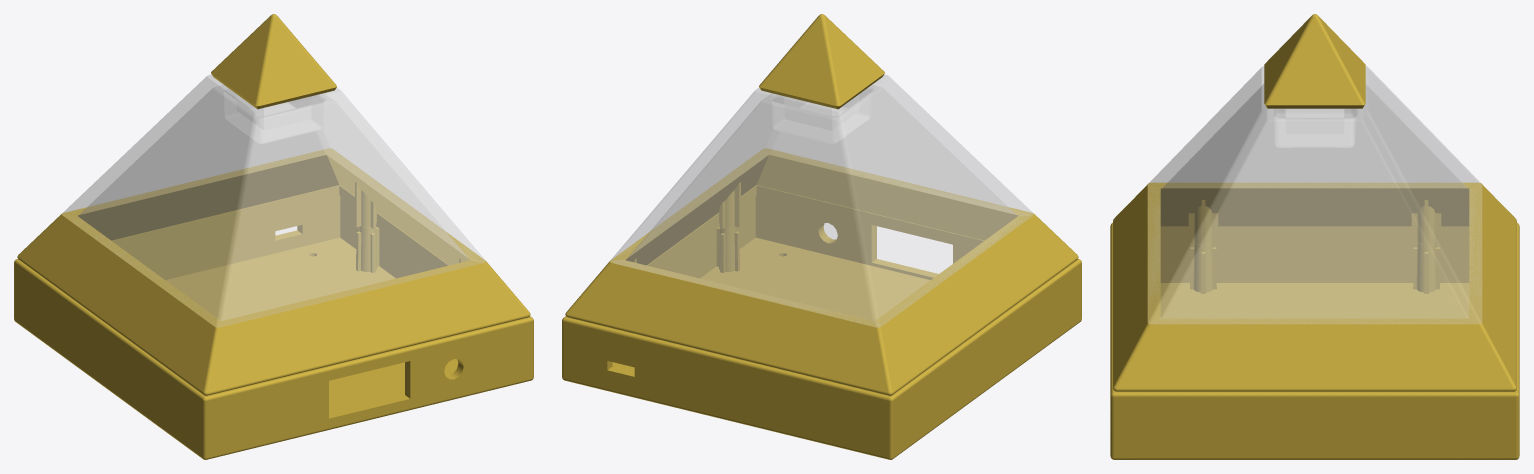
File: Violin-v1.glb
3 views of the same model, side by side, from view 1: azimuth 30°, elevation 25°; view 2: azimuth 150°, elevation 25°; view 3: azimuth 270°, elevation 25° (orthographic). The views are drawn at different scales.
Visible parts, largest first — view 1: Low-frequency magnetic_wire-Up-Cover.004, Low-frequency magnetic_wire-Dw-Cover.002, Low-frequency magnetic_wire-Up-Cover.002, Low-frequency magnetic_wire-Up-Cover-Tip.002; view 2: Low-frequency magnetic_wire-Up-Cover.004, Low-frequency magnetic_wire-Up-Cover.002, Low-frequency magnetic_wire-Dw-Cover.002, Low-frequency magnetic_wire-Up-Cover-Tip.002; view 3: Low-frequency magnetic_wire-Up-Cover.004, Low-frequency magnetic_wire-Up-Cover.002, Low-frequency magnetic_wire-Dw-Cover.002, Low-frequency magnetic_wire-Up-Cover-Tip.002.
Part boxes in pixels (box(x1,y1,x2,y2)): Low-frequency magnetic_wire-Up-Cover.004: box(62, 74, 485, 327); Low-frequency magnetic_wire-Dw-Cover.002: box(14, 195, 533, 459); Low-frequency magnetic_wire-Up-Cover.002: box(17, 148, 530, 395); Low-frequency magnetic_wire-Up-Cover-Tip.002: box(211, 14, 336, 109); Low-frequency magnetic_wire-Up-Cover.004: box(610, 74, 1033, 327); Low-frequency magnetic_wire-Up-Cover.002: box(565, 148, 1078, 395); Low-frequency magnetic_wire-Dw-Cover.002: box(562, 195, 1081, 459); Low-frequency magnetic_wire-Up-Cover-Tip.002: box(759, 14, 884, 109); Low-frequency magnetic_wire-Up-Cover.004: box(1147, 66, 1482, 324); Low-frequency magnetic_wire-Up-Cover.002: box(1113, 182, 1516, 391); Low-frequency magnetic_wire-Dw-Cover.002: box(1110, 222, 1519, 459); Low-frequency magnetic_wire-Up-Cover-Tip.002: box(1264, 14, 1365, 108).
Size of the model in its own units: 0.11 by 0.107 by 0.11.
